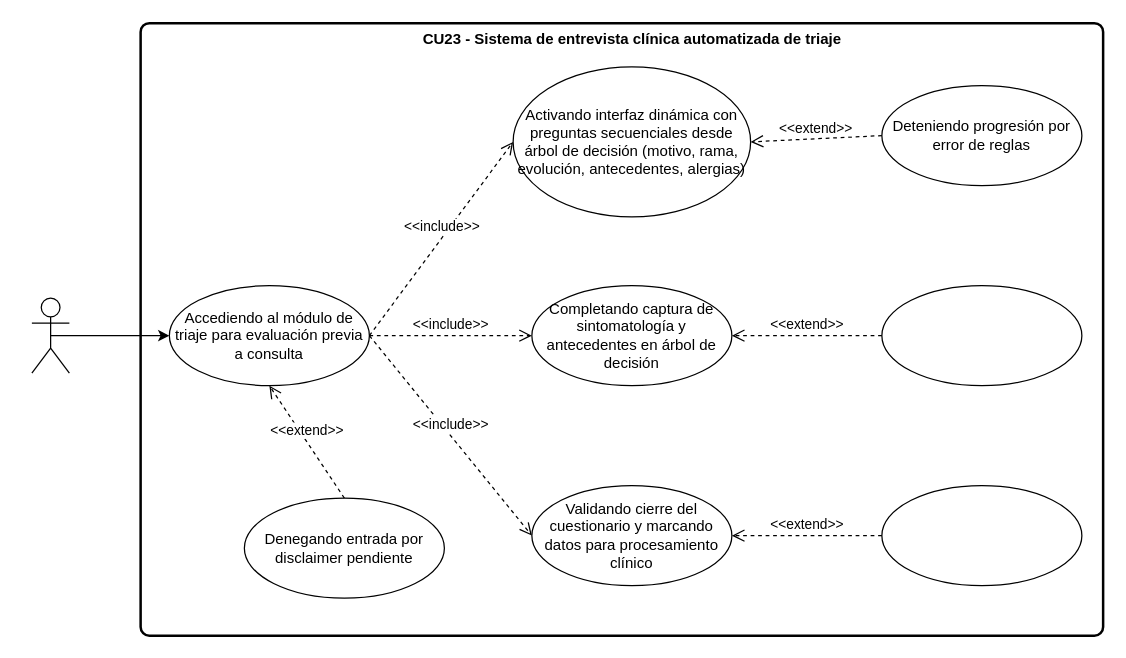
The diagram is 1126 pixels wide and 658 high, and some of its shapes have lost their labels. Here are the shapes that lost their labels. From the top down, the centre of each, then its label:
the point at 50,335: Paciente
the point at 981,335: Conservando respuestas parciales y reanudando
the point at 981,535: Notificando falla de persistencia del cuestionario
